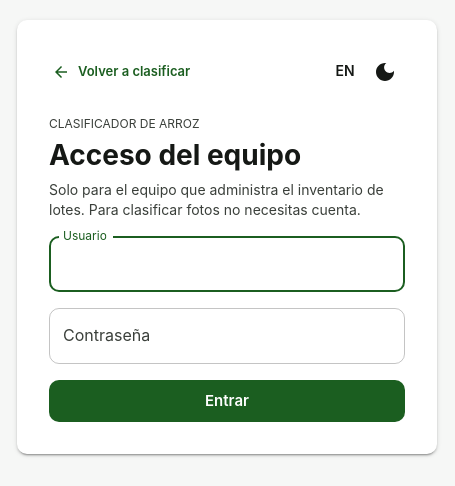
Scenario: PaginaLogin › CA-07.2 cambiar el idioma traduce la pantalla y se recuerda
Check: the heading "Acceso del equipo" is shown, box 49,138 -> 301,172
Click the button with test id "boton-idioma" at (345, 72), box 325,52 -> 365,92
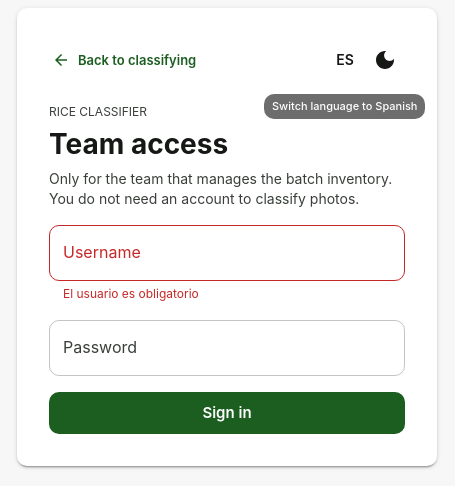
Check: the heading "Team access" is shown, box 49,127 -> 228,161
